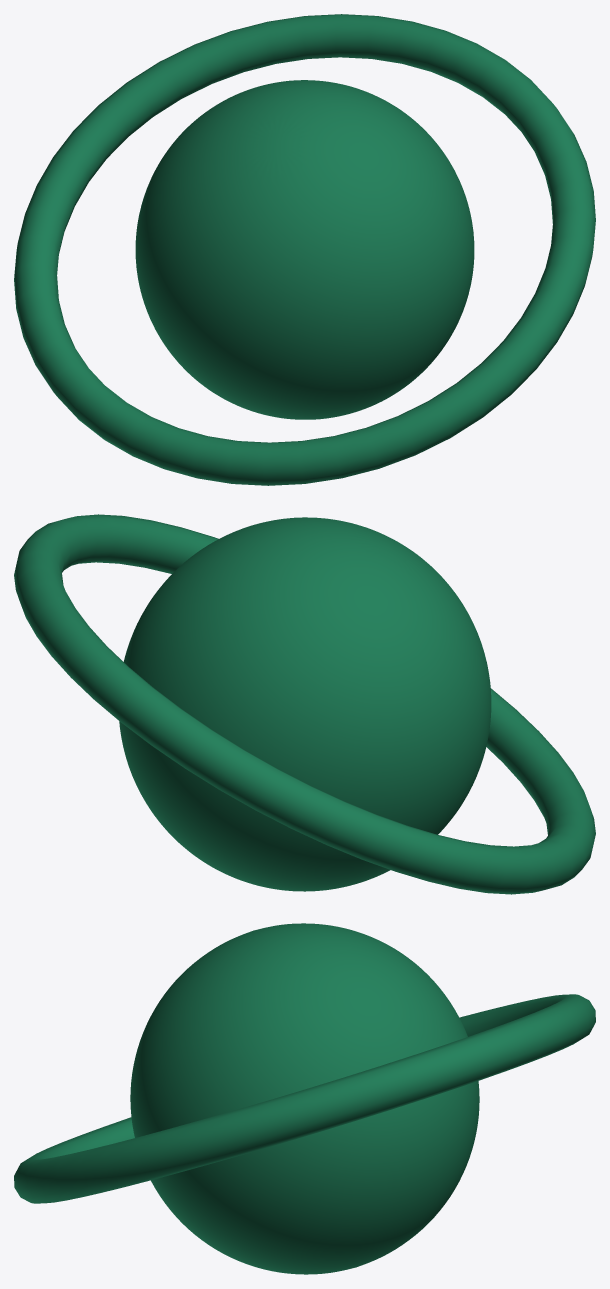
Rendered from green_ring.glb.
3 renders of one model, top to bottom at view 1: azimuth 30°, elevation 25°; view 2: azimuth 150°, elevation 25°; view 3: azimuth 270°, elevation 25°, orthographic. The views are drawn at different scales.
Visible parts, largest first — view 1: green ring; view 2: green ring; view 3: green ring.
Part boxes in pixels (bbox=[...]): green ring: bbox=[14, 14, 595, 485]; green ring: bbox=[14, 514, 595, 894]; green ring: bbox=[14, 923, 595, 1274].
Bounding box in the file's own units: 1.61 × 0.99 × 1.64.
